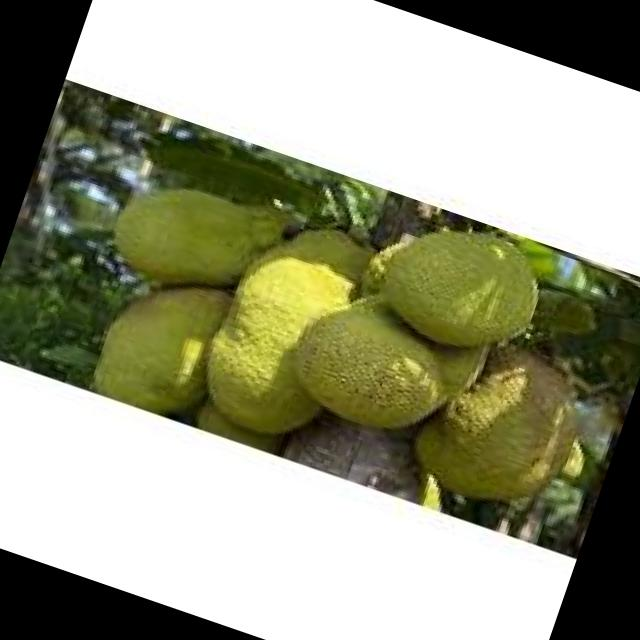Fruit: (170, 214, 522, 502), (388, 292, 628, 543), (336, 188, 574, 388), (88, 147, 280, 326)
